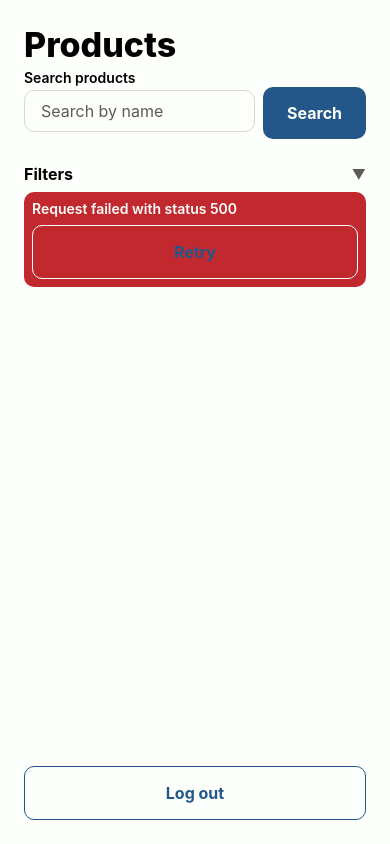
Test case: ProductsScreen › retries the fetch when Retry is pressed
Click the text "Retry" at (195, 252), box [174,242,216,262]
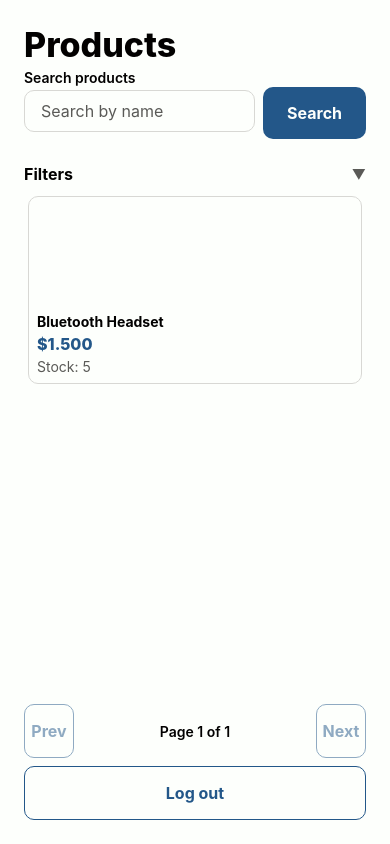
Now the text "Bluetooth Headset" is shown, box [37,313,164,330]
